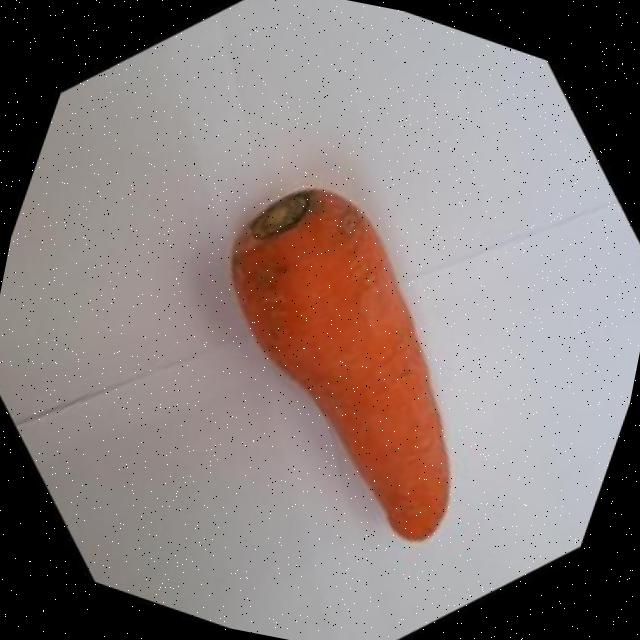carrot: (230, 189, 449, 540)
